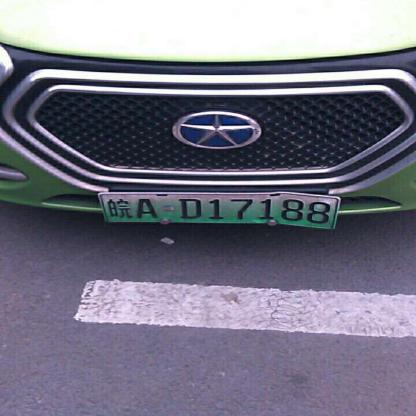lp: (100, 195, 337, 227)
